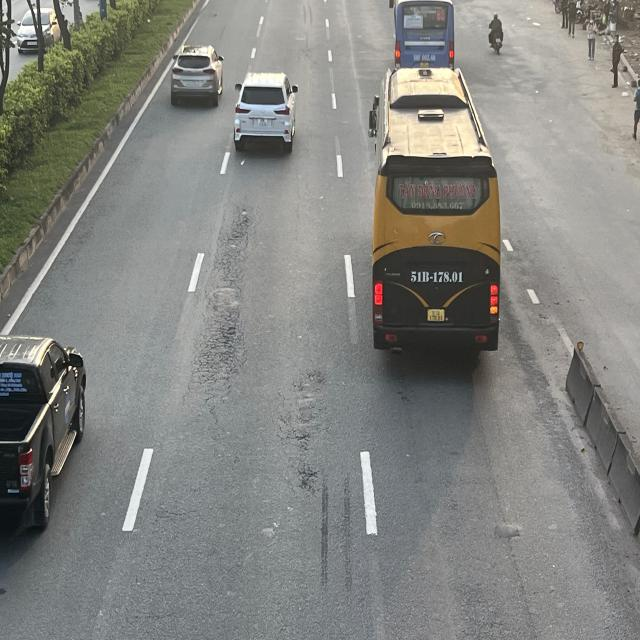car: (0, 333, 83, 536), (233, 71, 299, 153), (170, 46, 226, 106)
coach: (370, 65, 501, 356), (391, 0, 455, 65)
